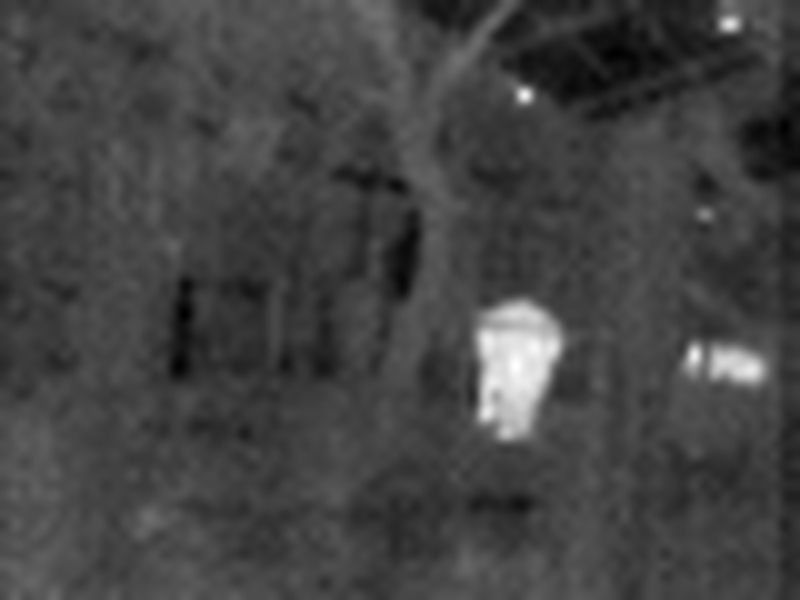elephant: (467, 303, 556, 434), (675, 328, 769, 408)
